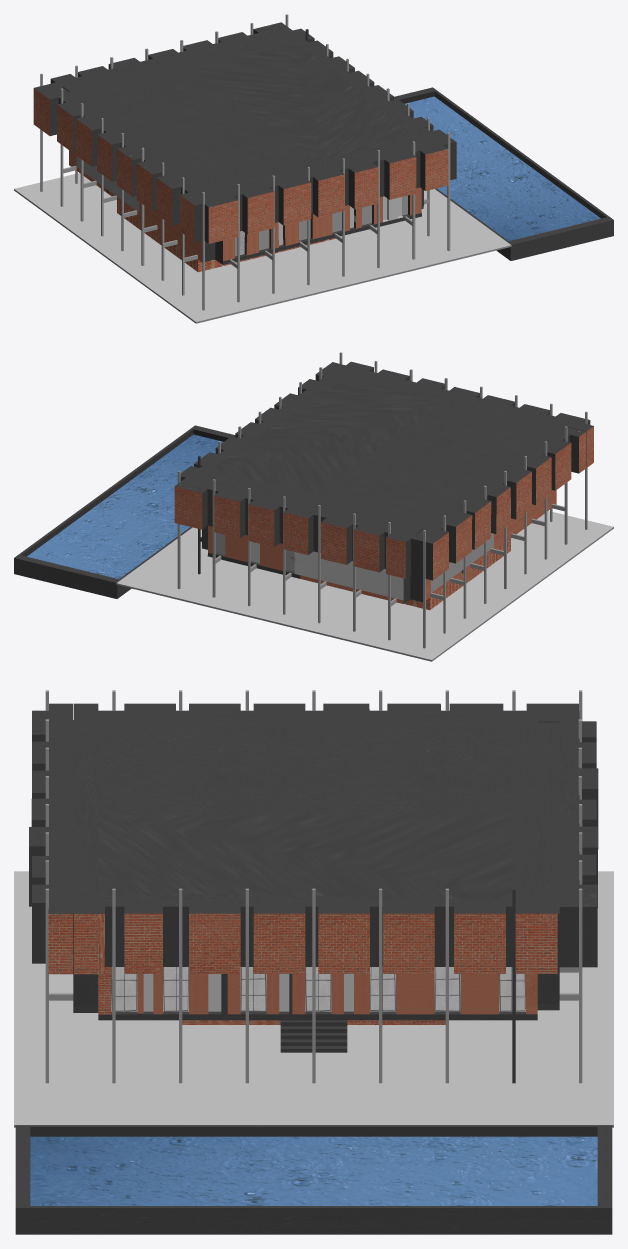
File: Library.obj
3 renders of one model, top to bottom at view 1: azimuth 30°, elevation 25°; view 2: azimuth 150°, elevation 25°; view 3: azimuth 270°, elevation 25°, orthographic. The views are drawn at different scales.
Visible parts, largest first — view 1: main_building_Cube.022, round_Plane, Cube_Cube.060, bottom_Cube, Pillar_3.025_Cube.054, Pillar_4.005_Cube.009; view 2: main_building_Cube.022, round_Plane, Cube_Cube.060, Pillar_3.029_Cube.058, bottom_Cube, Pillar_3.025_Cube.054, Pillar_2.002_Cube.014; view 3: main_building_Cube.022, round_Plane, Cube_Cube.060, bottom_Cube, Pillar_3.030_Cube.062, Pillar_3.008_Cube.029, Pillar_3.005_Cube.026, Pillar_3.003_Cube.024, Pillar_3.006_Cube.027, Pillar_3.004_Cube.025, Pillar_3.002_Cube.023, Pillar_4.004_Cube.008 (+7 smaller).
Boxes of the visible parts, x1,y1,x2,y2 form: main_building_Cube.022: (33, 22, 456, 264); round_Plane: (14, 173, 511, 323); Cube_Cube.060: (394, 87, 613, 260); bottom_Cube: (117, 200, 335, 272); Pillar_3.025_Cube.054: (76, 156, 139, 212); Pillar_4.005_Cube.009: (447, 133, 450, 250); main_building_Cube.022: (174, 361, 593, 603); round_Plane: (116, 511, 613, 661); Cube_Cube.060: (14, 425, 235, 598); Pillar_3.029_Cube.058: (294, 551, 403, 600); bottom_Cube: (404, 538, 510, 610); Pillar_3.025_Cube.054: (431, 533, 493, 592); Pillar_2.002_Cube.014: (212, 479, 221, 597); main_building_Cube.022: (29, 703, 598, 1083); round_Plane: (14, 871, 613, 1127); Cube_Cube.060: (15, 1125, 612, 1234); bottom_Cube: (182, 1020, 445, 1052); Pillar_3.030_Cube.062: (163, 967, 188, 1011); Pillar_3.008_Cube.029: (111, 967, 137, 1011); Pillar_3.005_Cube.026: (305, 967, 331, 1011); Pillar_3.003_Cube.024: (434, 967, 460, 1011); Pillar_3.006_Cube.027: (240, 967, 266, 1011); Pillar_3.004_Cube.025: (499, 967, 525, 1011); Pillar_3.002_Cube.023: (370, 967, 395, 1011); Pillar_4.004_Cube.008: (112, 888, 115, 1083).
Size of the model in its own units: 23.88 by 7.44 by 18.
